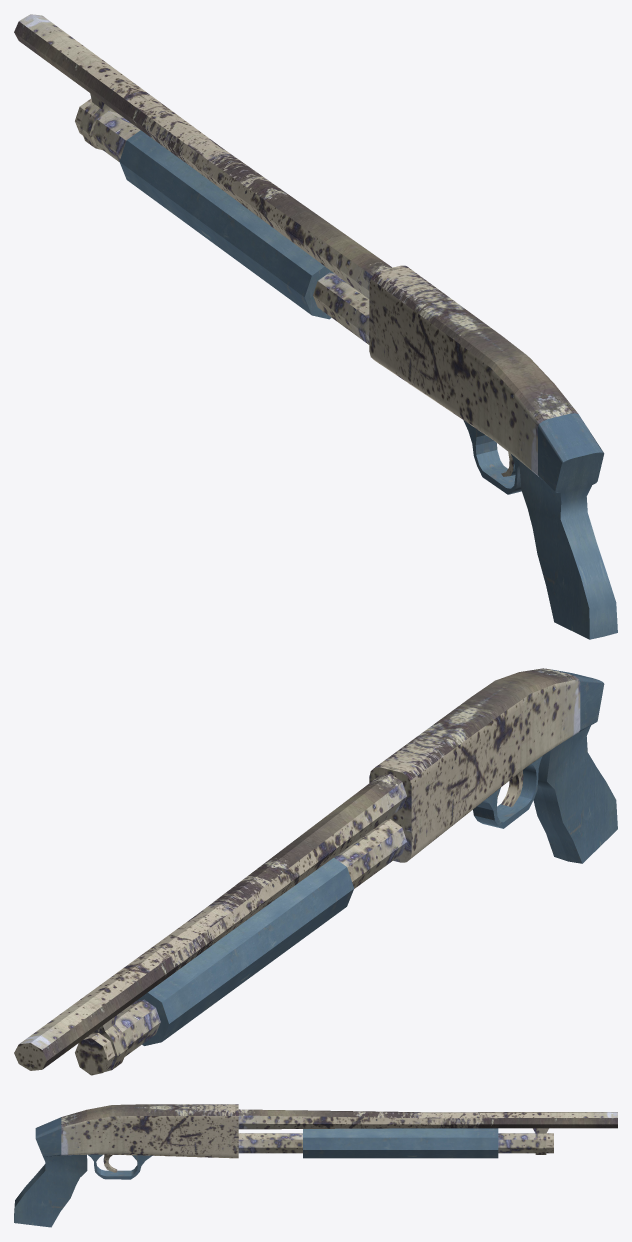
File: u_shotgun.fbx
The picture shows the model from 3 angles, top to bottom: view 1: azimuth 30°, elevation 25°; view 2: azimuth 150°, elevation 25°; view 3: azimuth 270°, elevation 25°; orthographic projection. The views are drawn at different scales.
Visible parts, largest first — view 1: shotgun; view 2: shotgun; view 3: shotgun.
Part boxes in pixels (x1,y1,x2,y2): shotgun: (14,14,617,639); shotgun: (14,668,617,1075); shotgun: (14,1104,617,1227).
Size of the model in its own units: 0.5291 by 2.26 by 10.59.
